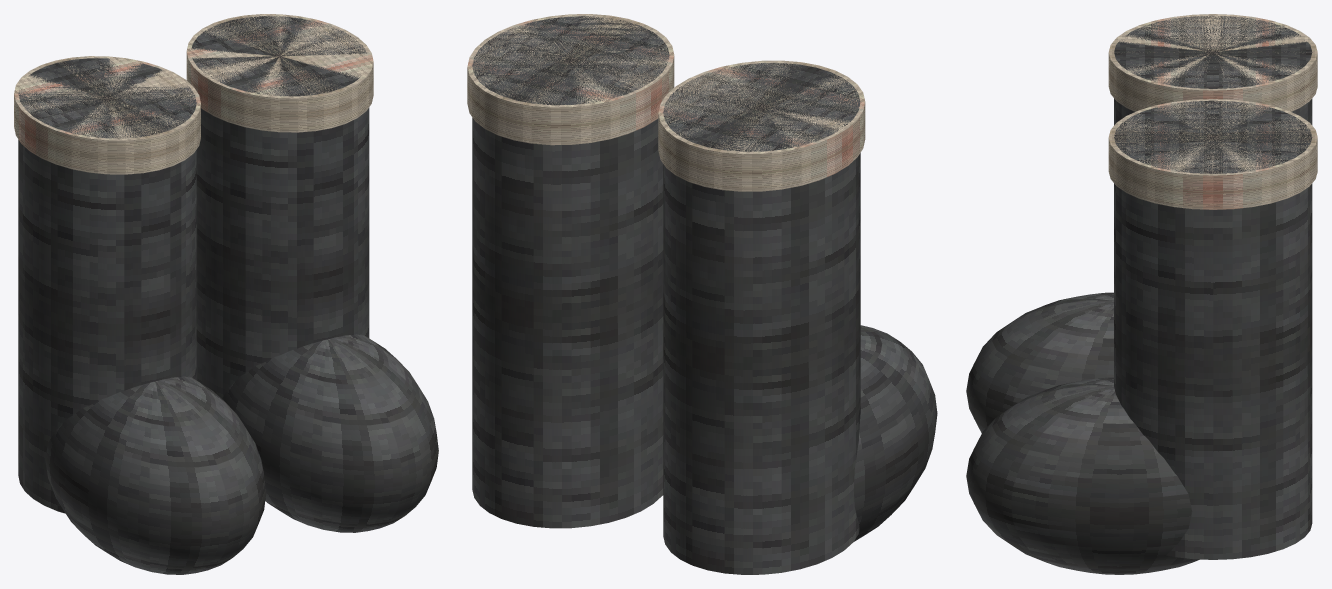
The model's file is boots.glb.
3 renders of one model, left to right at view 1: azimuth 30°, elevation 25°; view 2: azimuth 150°, elevation 25°; view 3: azimuth 270°, elevation 25°, orthographic. The views are drawn at different scales.
Visible parts, largest first — view 1: upper (×2), toe (×2), collar (×2); view 2: upper (×2), collar (×2), toe; view 3: upper (×2), toe (×2), collar (×2).
Boxes of the visible parts, x1,y1,x2,y2 form: upper (×2): [18, 16, 369, 513]; toe (×2): [45, 334, 438, 574]; collar (×2): [14, 14, 373, 174]; upper (×2): [472, 16, 860, 574]; collar (×2): [467, 14, 865, 191]; toe: [853, 325, 937, 541]; upper (×2): [1114, 15, 1312, 559]; toe (×2): [966, 292, 1199, 574]; collar (×2): [1108, 14, 1317, 209].
Bounding box in the file's own units: 0.35 × 0.42 × 0.312.
2 materials, 2 textured.
